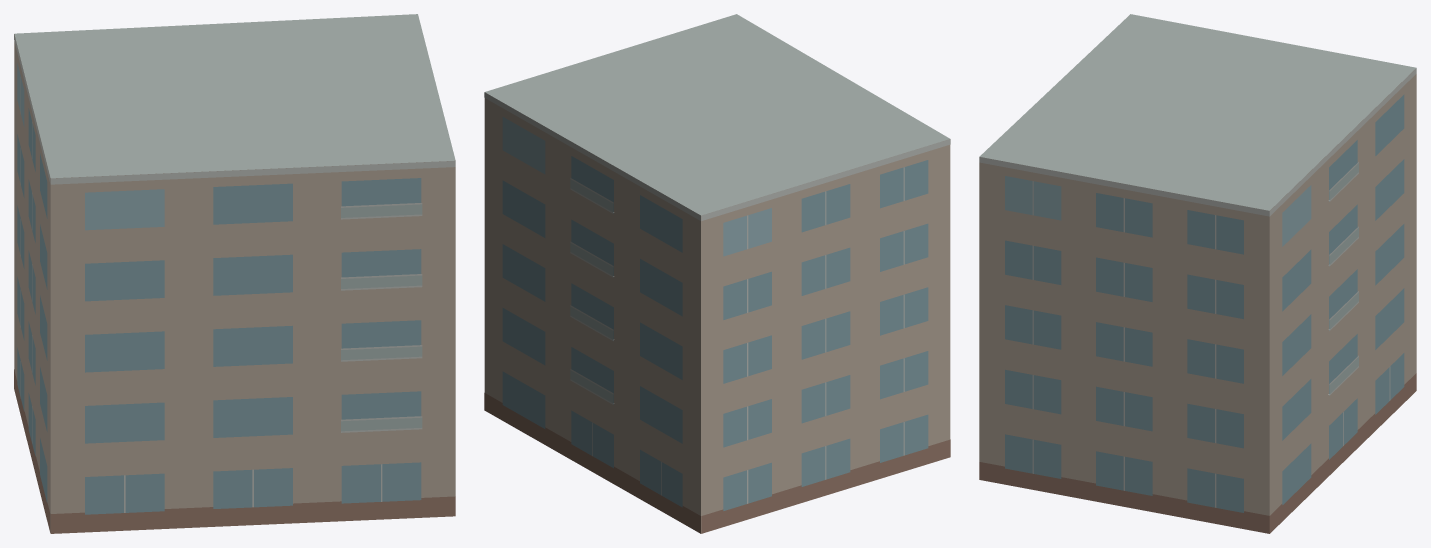
Rendered from survey-upis-32532168.glb.
3 renders of one model, left to right at view 1: azimuth 30°, elevation 25°; view 2: azimuth 150°, elevation 25°; view 3: azimuth 270°, elevation 25°, orthographic. The views are drawn at different scales.
Parts seen in each view (by area): view 1: survey-upis-32532168.tmp; view 2: survey-upis-32532168.tmp; view 3: survey-upis-32532168.tmp.
Boxes of the visible parts, box(x1,y1,x2,y2) form: survey-upis-32532168.tmp: box(14, 14, 455, 533); survey-upis-32532168.tmp: box(484, 14, 950, 533); survey-upis-32532168.tmp: box(979, 14, 1416, 533).
Bounding box in the file's own units: 17.91 × 13.7 × 16.82.
